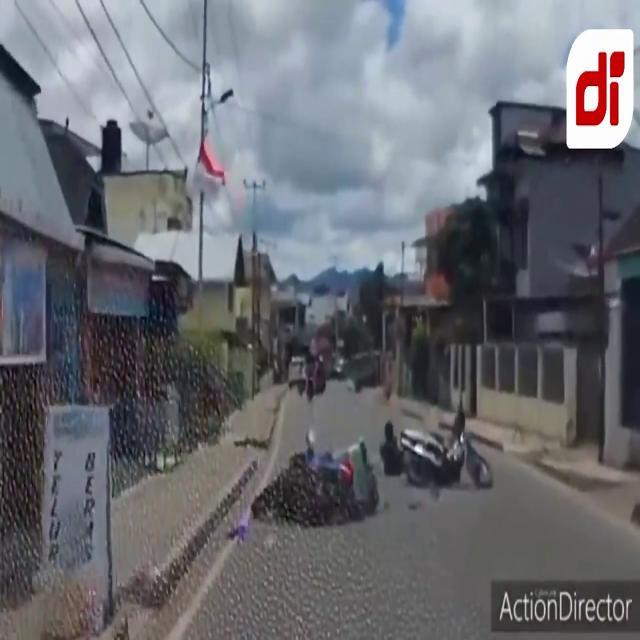multiple_accident: (232, 352, 496, 548)
